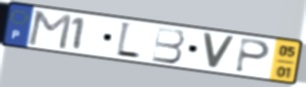1: (69, 17, 87, 52)
B: (150, 25, 187, 65)
L: (114, 20, 143, 61)
M: (26, 9, 75, 52)
P: (233, 36, 272, 75)
V: (200, 31, 238, 71)
